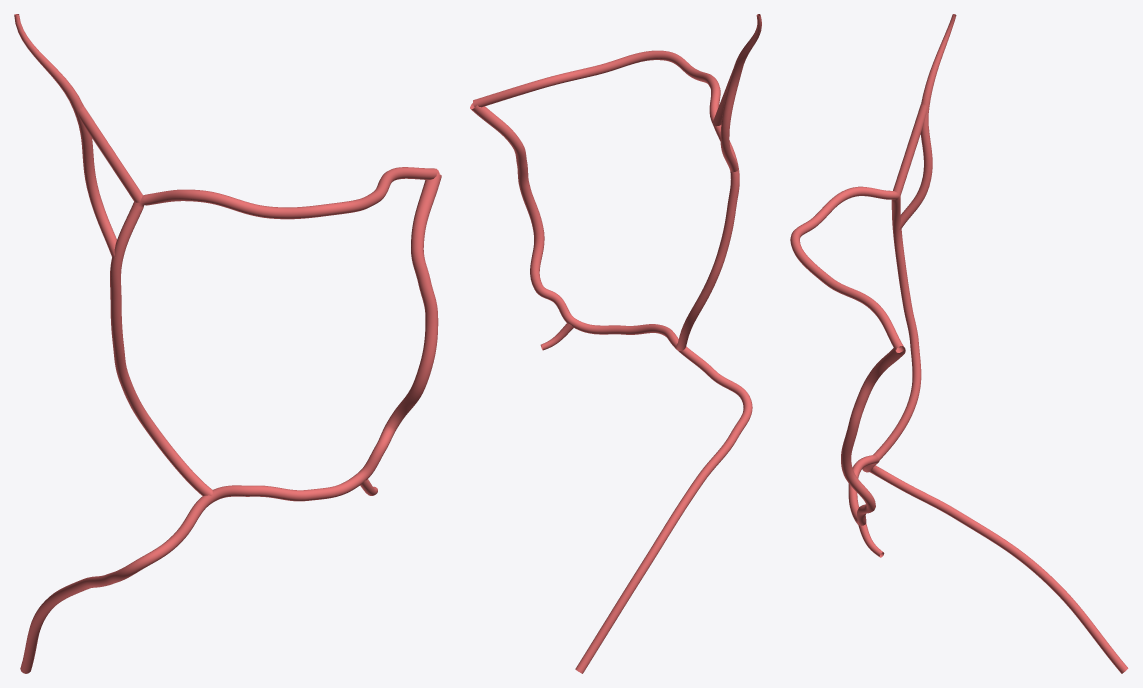
File: Patellar_anastomosis.r_BezierCurve.440.glb
The picture shows the model from 3 angles, left to right: view 1: azimuth 30°, elevation 25°; view 2: azimuth 150°, elevation 25°; view 3: azimuth 270°, elevation 25°; orthographic projection. The views are drawn at different scales.
Parts seen in each view (by area): view 1: Patellar_anastomosis.r_BezierCurve.440; view 2: Patellar_anastomosis.r_BezierCurve.440; view 3: Patellar_anastomosis.r_BezierCurve.440.
Boxes of the visible parts, box(x1,y1,x2,y2) form: Patellar_anastomosis.r_BezierCurve.440: box(14, 14, 441, 673); Patellar_anastomosis.r_BezierCurve.440: box(470, 14, 761, 673); Patellar_anastomosis.r_BezierCurve.440: box(790, 14, 1128, 673).
Size of the model in its own units: 0.0685 by 0.1277 by 0.0637.
